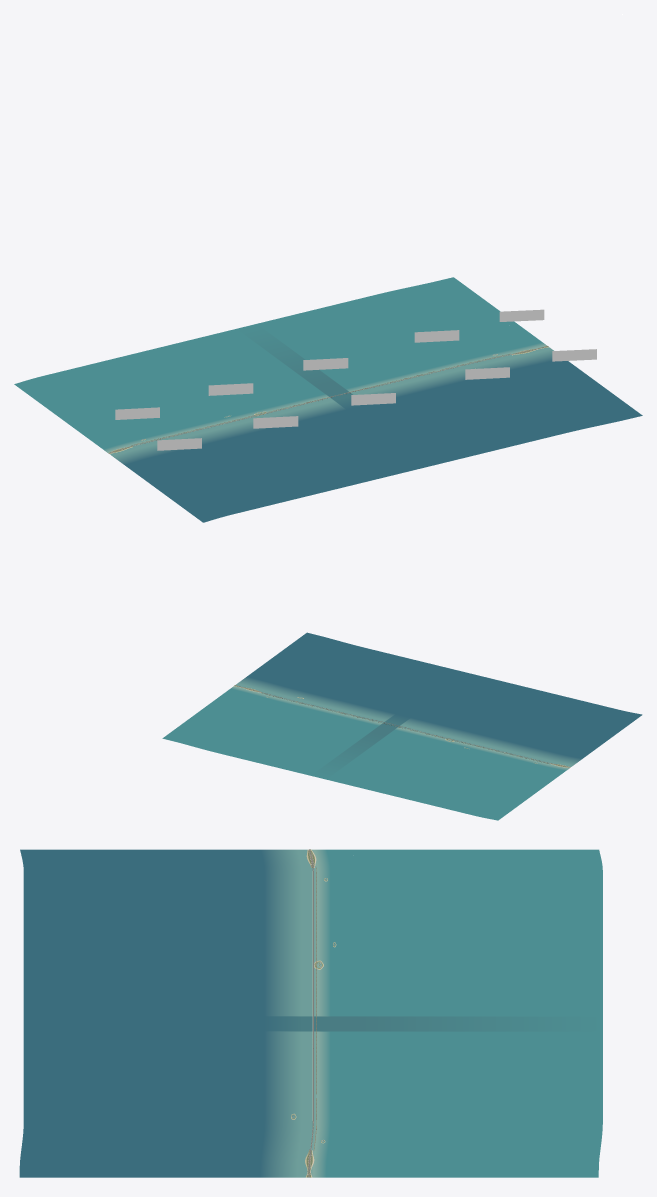
File: overseas.glb
3 renders of one model, top to bottom at view 1: azimuth 30°, elevation 25°; view 2: azimuth 150°, elevation 25°; view 3: azimuth 270°, elevation 25°, orthographic. The views are drawn at different scales.
Parts seen in each view (by area): view 1: KeysFlats_034, KeysFlats_002, KeysFlats_008, KeysFlats_015, KeysFlats_024, KeysFlats_025, KeysFlats_032, KeysFlats_001, KeysFlats_007, KeysFlats_010, KeysFlats_017, KeysFlats_018 (+29 smaller); view 2: KeysFlats_031, KeysFlats_034, KeysFlats_032, KeysFlats_002, KeysFlats_001, KeysFlats_005, KeysFlats_009, KeysFlats_010, KeysFlats_023, KeysFlats_027, KeysFlats_013, KeysFlats_018 (+24 smaller); view 3: KeysFlats_000, KeysFlats_031, KeysFlats_001, KeysFlats_029, KeysFlats_005, KeysFlats_010, KeysFlats_016, KeysFlats_022, KeysFlats_027, KeysFlats_004, KeysFlats_009, KeysFlats_015 (+24 smaller).
Part boxes in pixels (x1=…): KeysFlats_034: x1=435, y1=279, x2=631, y2=421; KeysFlats_002: x1=34, y1=374, x2=238, y2=514; KeysFlats_008: x1=111, y1=356, x2=311, y2=497; KeysFlats_015: x1=197, y1=335, x2=398, y2=476; KeysFlats_024: x1=308, y1=308, x2=508, y2=449; KeysFlats_025: x1=320, y1=305, x2=521, y2=446; KeysFlats_032: x1=412, y1=284, x2=603, y2=427; KeysFlats_001: x1=17, y1=378, x2=229, y2=516; KeysFlats_007: x1=99, y1=359, x2=299, y2=500; KeysFlats_010: x1=136, y1=350, x2=336, y2=491; KeysFlats_017: x1=222, y1=329, x2=422, y2=470; KeysFlats_018: x1=234, y1=326, x2=434, y2=467; KeysFlats_031: x1=193, y1=642, x2=352, y2=749; KeysFlats_034: x1=169, y1=634, x2=325, y2=741; KeysFlats_032: x1=184, y1=640, x2=344, y2=746; KeysFlats_002: x1=469, y1=708, x2=620, y2=816; KeysFlats_001: x1=481, y1=710, x2=625, y2=819; KeysFlats_005: x1=441, y1=701, x2=594, y2=809; KeysFlats_009: x1=403, y1=692, x2=556, y2=800; KeysFlats_010: x1=394, y1=690, x2=547, y2=798; KeysFlats_023: x1=272, y1=660, x2=425, y2=768; KeysFlats_027: x1=234, y1=651, x2=387, y2=759; KeysFlats_013: x1=366, y1=683, x2=519, y2=791; KeysFlats_018: x1=319, y1=672, x2=472, y2=779; KeysFlats_000: x1=20, y1=849, x2=599, y2=865; KeysFlats_031: x1=22, y1=1131, x2=601, y2=1146; KeysFlats_001: x1=23, y1=852, x2=602, y2=870; KeysFlats_029: x1=23, y1=1115, x2=602, y2=1125; KeysFlats_005: x1=23, y1=895, x2=602, y2=904; KeysFlats_010: x1=23, y1=941, x2=602, y2=950; KeysFlats_016: x1=23, y1=996, x2=602, y2=1005; KeysFlats_022: x1=23, y1=1051, x2=602, y2=1060; KeysFlats_027: x1=23, y1=1097, x2=602, y2=1106; KeysFlats_004: x1=23, y1=886, x2=602, y2=895; KeysFlats_009: x1=23, y1=932, x2=602, y2=941; KeysFlats_015: x1=23, y1=987, x2=602, y2=996.
Bounding box in the file's own units: 12125 × 3910 × 6829.
